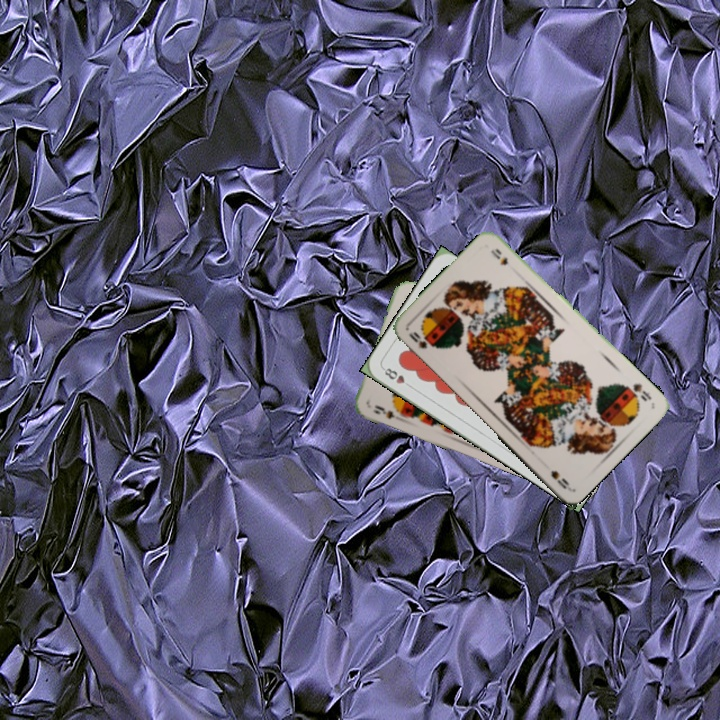H8: (379, 364, 415, 391)
S9: (370, 401, 406, 422)
SO: (622, 379, 654, 404), (405, 327, 436, 351)
